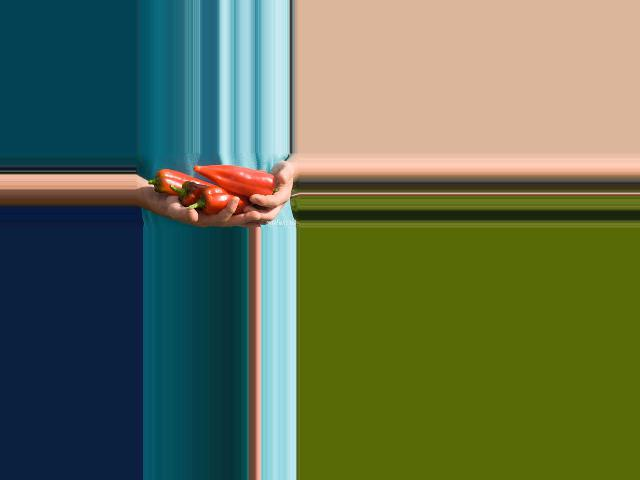bell_pepper: (147, 169, 200, 197)
